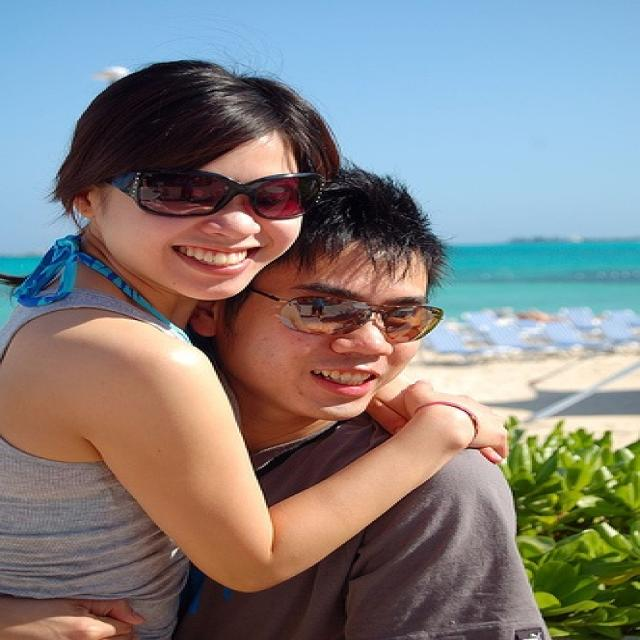person: (3, 60, 508, 640), (167, 167, 552, 640)
